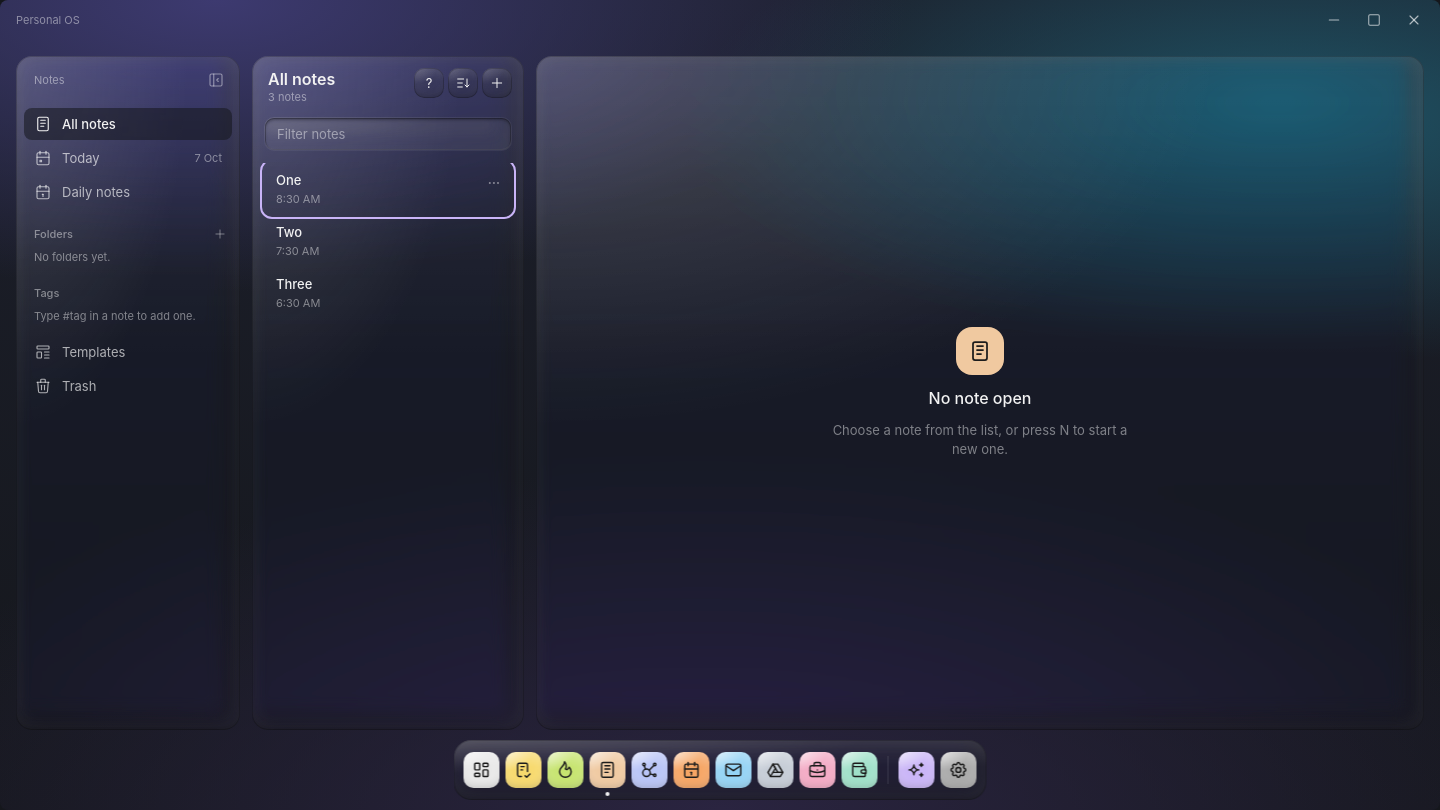
Scenario: where the keys do nothing › ignores N, ? and Delete while typing in the filter field
Expected: the text "One" is shown, [276,171,301,190]
Click the search field labelled "Filter notes".
click(388, 134)  # box [264,117,512,151]
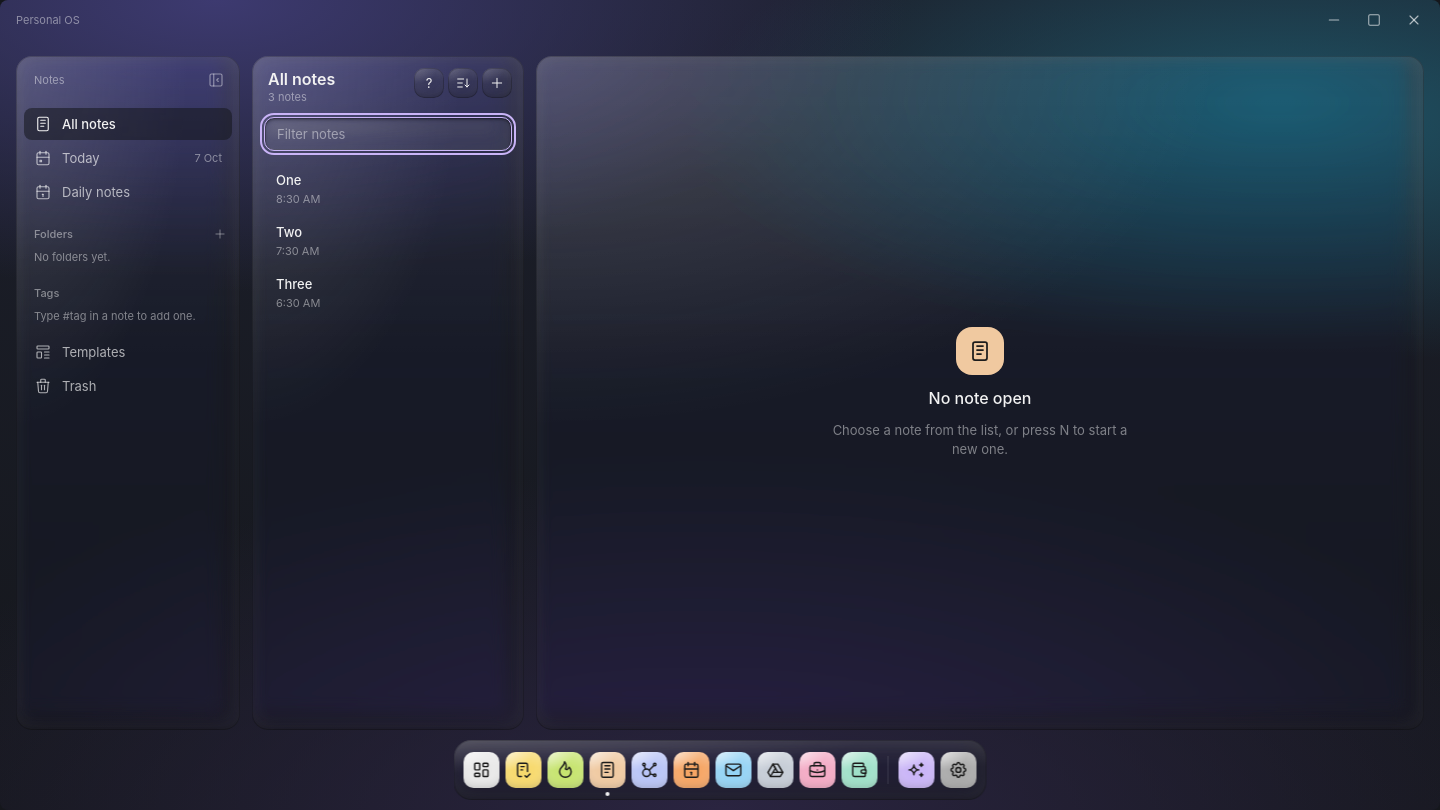
Type keys "n?{Delete}"
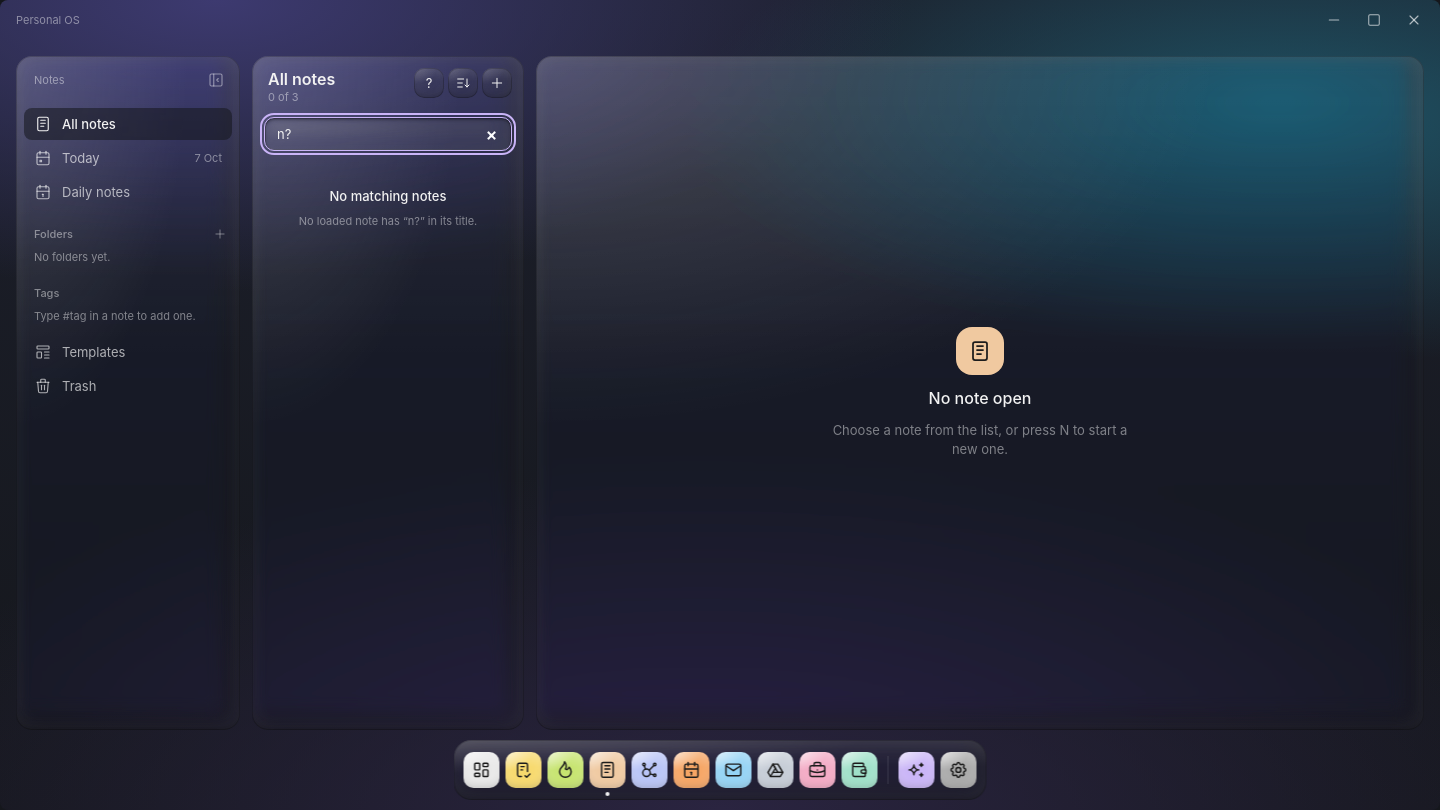
Now the search field named "Filter notes" holds "n?", box [264,117,512,151]
